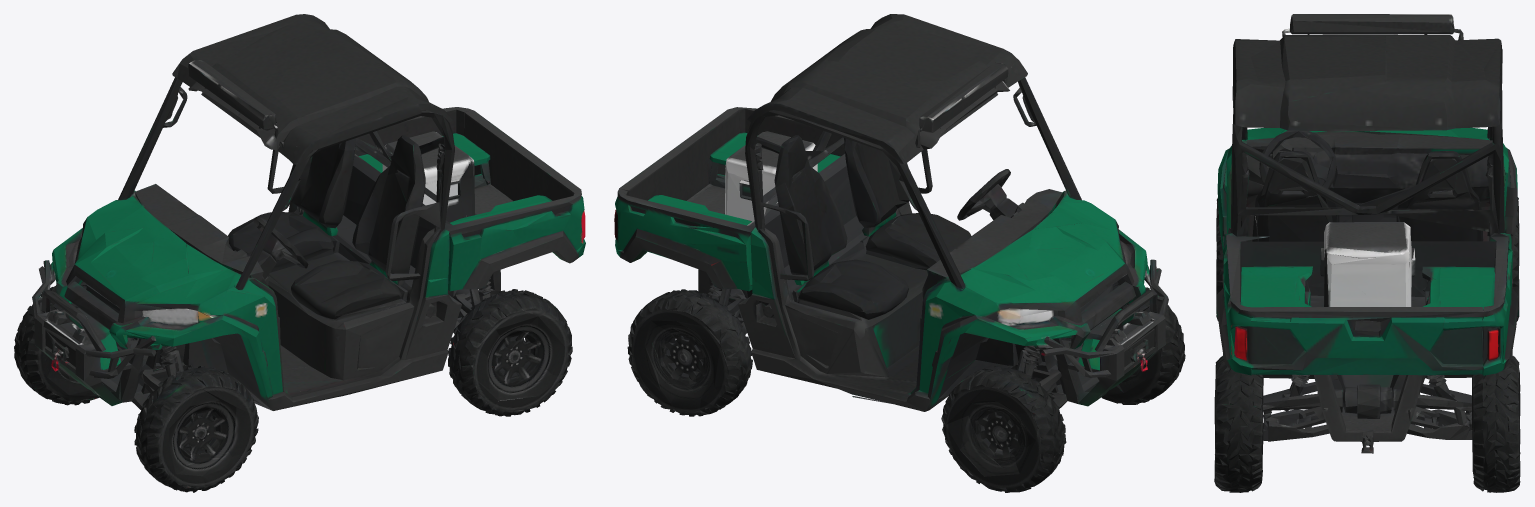
Rendered from utv.glb.
3 views of the same model, side by side, from view 1: azimuth 30°, elevation 25°; view 2: azimuth 150°, elevation 25°; view 3: azimuth 270°, elevation 25° (orthographic). The views are drawn at different scales.
Bounding box in the file's own units: 1.9 × 1.28 × 0.9829.
1 material, 1 textured.
